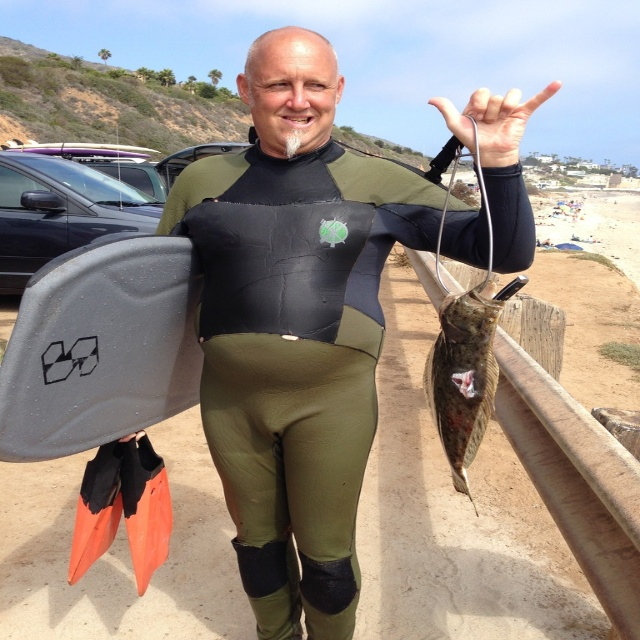Fish: (423, 280, 506, 517)
